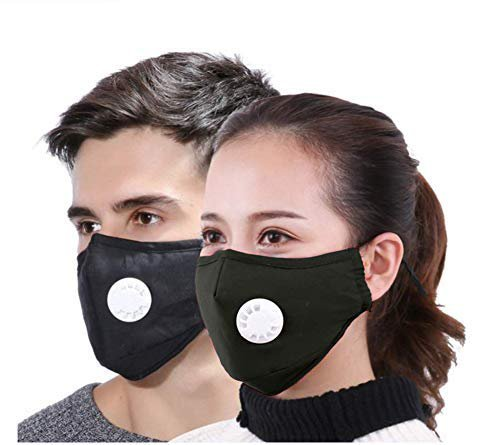mask: (199, 104, 458, 378), (47, 60, 196, 387)
